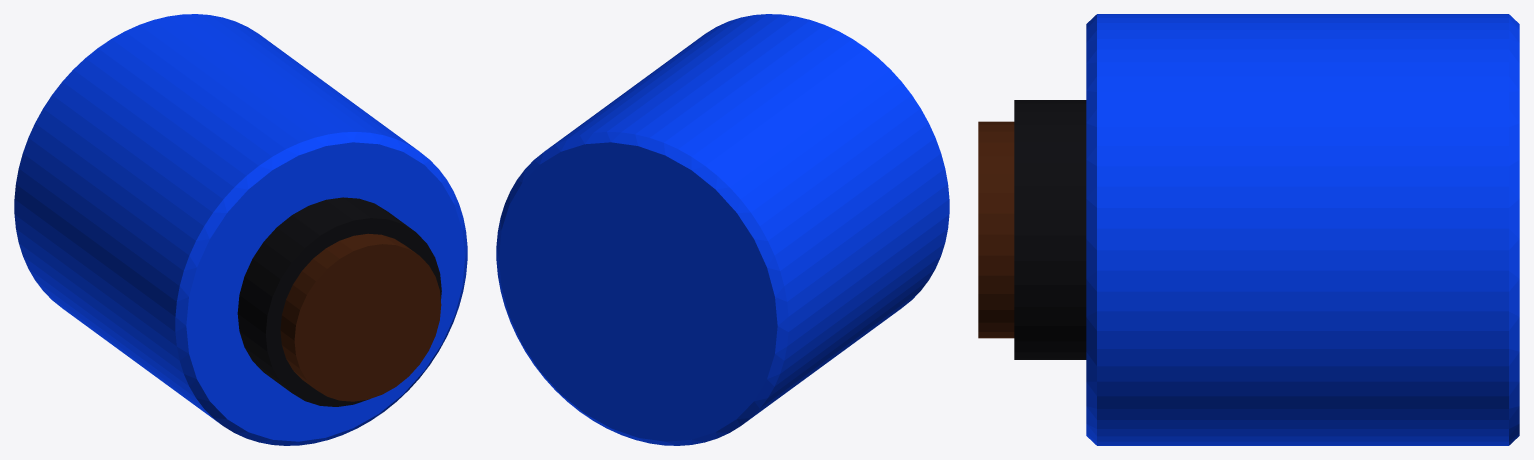
The model's file is SpeedPotion.obj.
The picture shows the model from 3 angles, left to right: view 1: azimuth 30°, elevation 25°; view 2: azimuth 150°, elevation 25°; view 3: azimuth 270°, elevation 25°; orthographic projection. The views are drawn at different scales.
Visible parts, largest first — view 1: SpeedPotion; view 2: SpeedPotion; view 3: SpeedPotion.
Boxes of the visible parts, x1,y1,x2,y2 form: SpeedPotion: (14, 14, 467, 445); SpeedPotion: (496, 14, 949, 445); SpeedPotion: (978, 14, 1519, 445).
Bounding box in the file's own units: 1.99 × 1.99 × 2.5.
